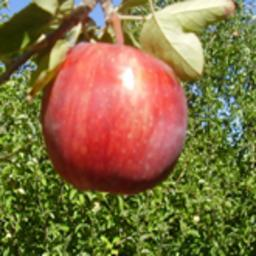apple: (41, 40, 188, 194)
